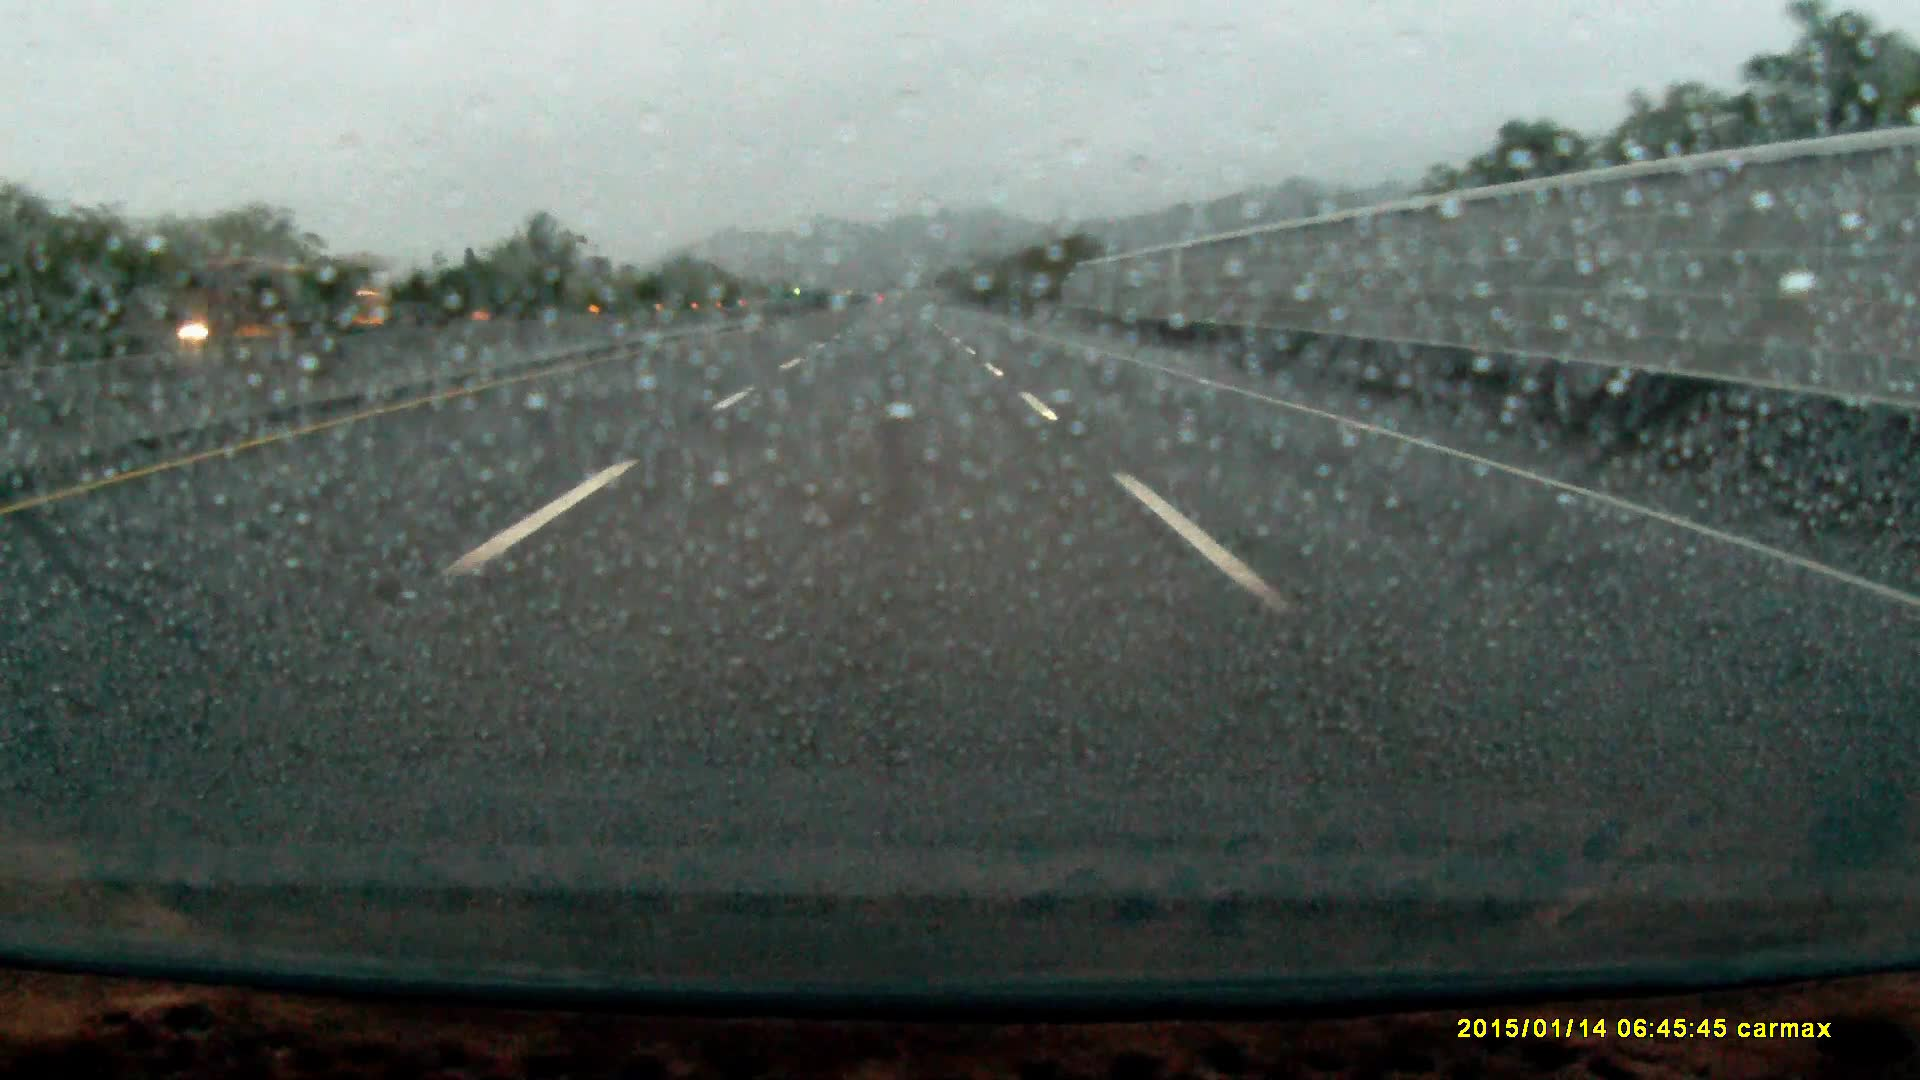vehicle: (142, 257, 368, 371)
